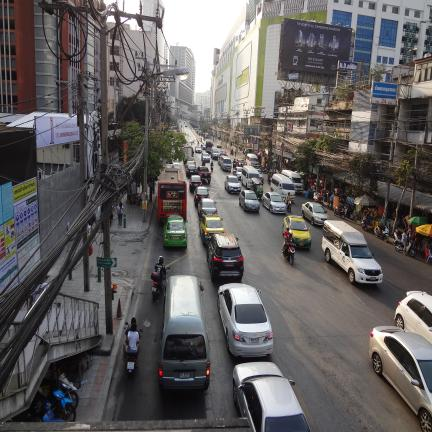bus: (158, 164, 187, 224)
car: (218, 283, 273, 356), (206, 233, 244, 281), (302, 202, 329, 225), (262, 192, 286, 213), (239, 190, 260, 212), (198, 198, 217, 216), (224, 175, 241, 193), (194, 186, 209, 206), (197, 166, 211, 184), (218, 155, 232, 172), (189, 175, 202, 192), (186, 164, 197, 178), (232, 167, 242, 180), (211, 149, 220, 160), (186, 157, 196, 166), (201, 152, 210, 162), (236, 159, 246, 167), (195, 145, 202, 153), (221, 149, 227, 155), (203, 216, 216, 217)
human: (123, 322, 139, 362), (282, 226, 293, 256), (155, 256, 166, 281), (125, 317, 136, 342), (402, 228, 408, 255), (117, 201, 123, 225), (328, 194, 334, 209), (335, 186, 340, 196), (210, 161, 214, 171), (139, 332, 141, 339)
motorbike: (151, 272, 166, 301), (282, 239, 295, 265), (374, 225, 389, 242), (125, 352, 137, 373), (393, 230, 404, 251), (405, 239, 416, 257), (343, 204, 355, 220), (334, 207, 346, 219), (285, 197, 292, 212), (362, 216, 368, 230), (314, 192, 322, 202), (267, 171, 273, 184), (210, 163, 214, 172), (124, 322, 128, 329), (230, 148, 233, 155), (166, 266, 170, 270), (139, 329, 142, 333)
pickup: (322, 220, 383, 283), (198, 166, 211, 184)
taxi: (282, 215, 311, 248), (164, 215, 187, 247), (200, 215, 225, 244)
van: (158, 275, 210, 390), (270, 174, 295, 201), (281, 170, 303, 193), (240, 165, 259, 188), (218, 156, 232, 171), (246, 153, 258, 167), (210, 148, 220, 160)
